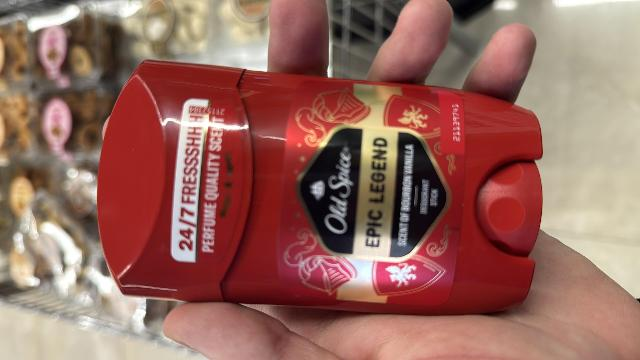Plastik: (87, 59, 545, 315)
